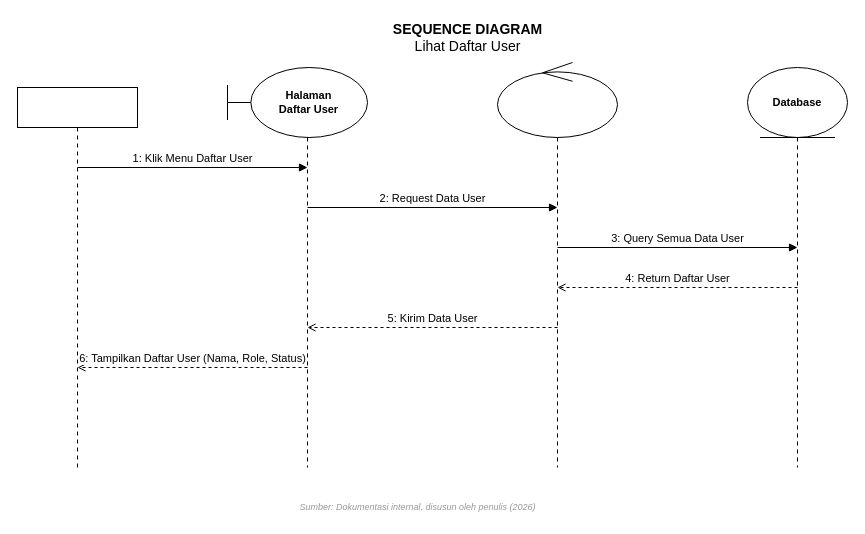
Image size: 865x534. Some labels were removed from this diagram. Each missing label, with the centre of its shape:
"Admin" goes at (x=77, y=107).
"UserController" goes at (x=557, y=100).
